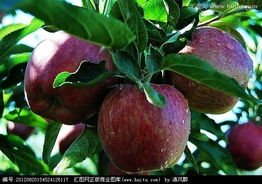obscured(0)_apple: (98, 83, 195, 173)
obscured(2)_apple: (20, 27, 122, 127), (170, 28, 257, 115)
